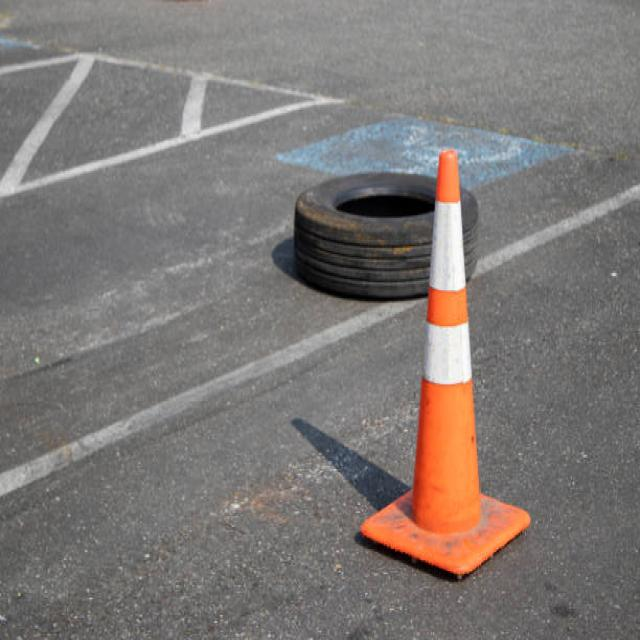Traffic Cone: (346, 124, 553, 573)
